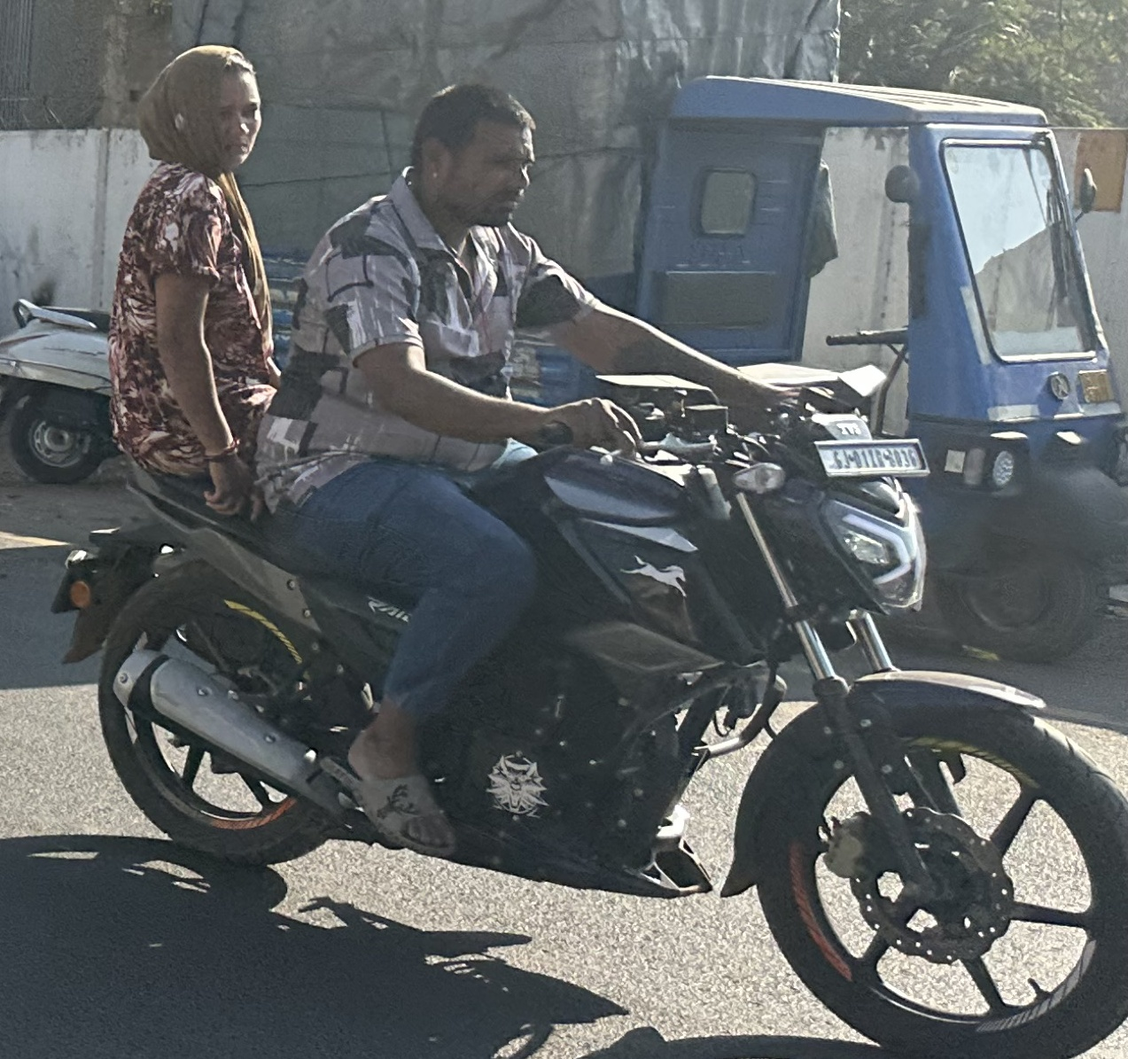BikeWithRider: (57, 44, 1128, 1059)
NoHelmet: (406, 79, 534, 235), (143, 48, 263, 177)
